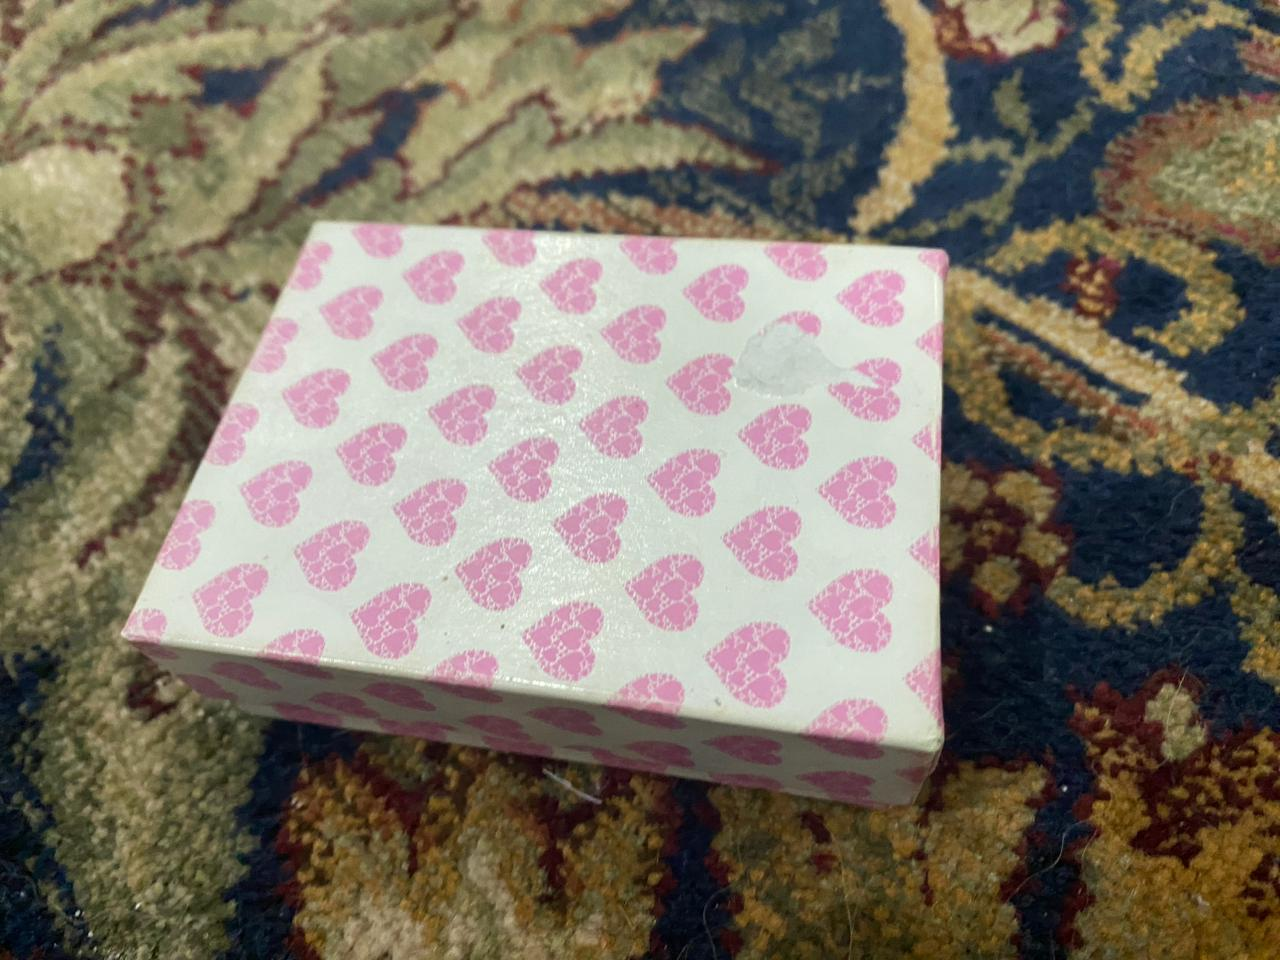Pink Box: (119, 217, 956, 829)
